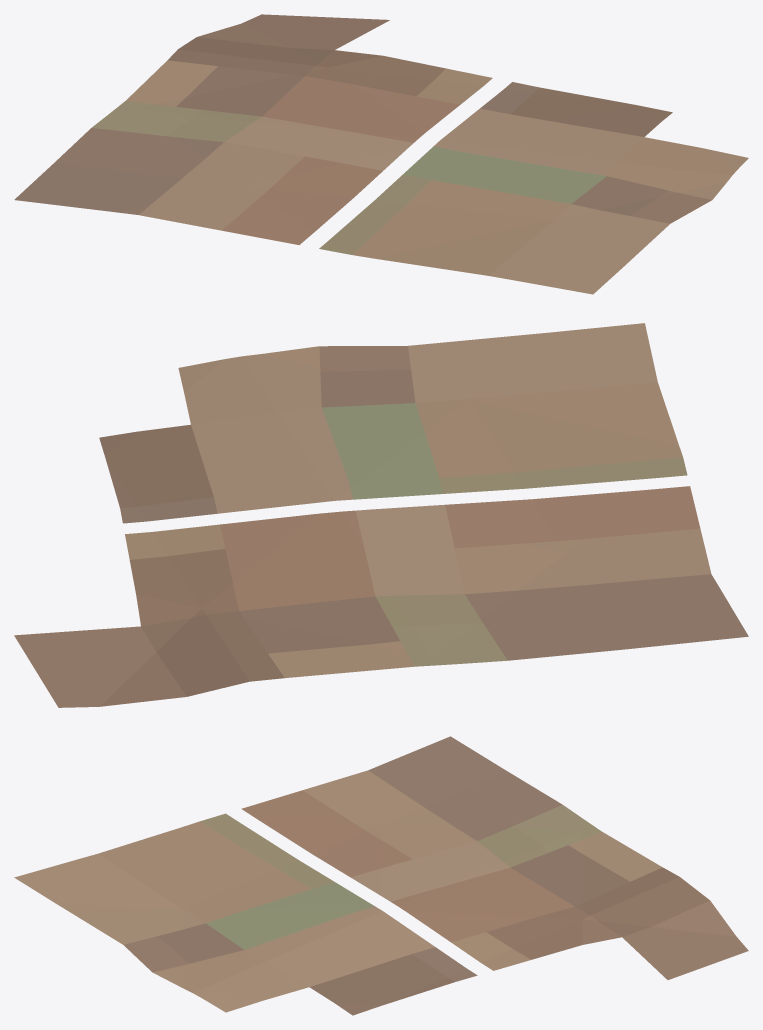
The model's file is farm_23_25_soil.glb.
3 renders of one model, top to bottom at view 1: azimuth 30°, elevation 25°; view 2: azimuth 150°, elevation 25°; view 3: azimuth 270°, elevation 25°, orthographic. The views are drawn at different scales.
Parts seen in each view (by area): view 1: geometry_0; view 2: geometry_0; view 3: geometry_0.
Part boxes in pixels (bbox=[...]): geometry_0: bbox=[14, 14, 748, 294]; geometry_0: bbox=[14, 323, 748, 707]; geometry_0: bbox=[14, 736, 748, 1015].
Size of the model in its own units: 250 by 16.7 by 294.
